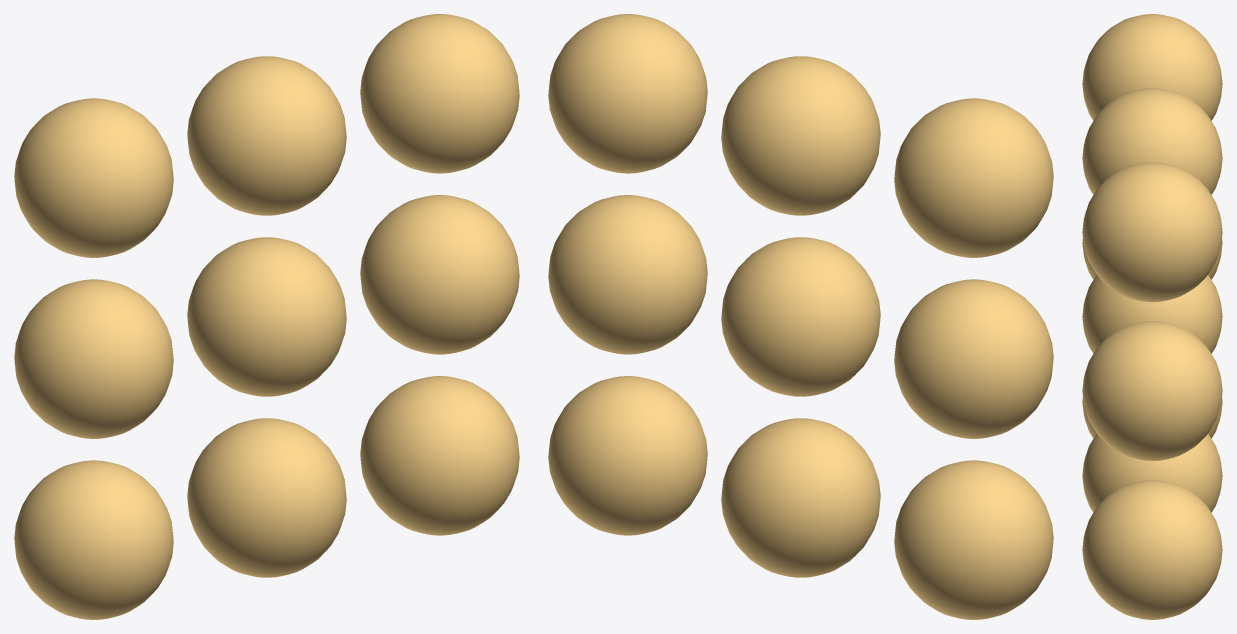
Rendered from pbr_spheres.glb.
3 views of the same model, side by side, from view 1: azimuth 30°, elevation 25°; view 2: azimuth 150°, elevation 25°; view 3: azimuth 270°, elevation 25° (orthographic). The views are drawn at different scales.
Parts seen in each view (by area): view 1: sphere_m0.5_r0.1, sphere_m0.5_r1.0, sphere_m0.5_r0.5, sphere_m0.0_r0.1, sphere_m0.0_r1.0, sphere_m1.0_r0.1, sphere_m1.0_r1.0, sphere_m0.0_r0.5, sphere_m1.0_r0.5; view 2: sphere_m0.5_r0.1, sphere_m0.5_r1.0, sphere_m0.5_r0.5, sphere_m0.0_r0.1, sphere_m0.0_r1.0, sphere_m1.0_r0.1, sphere_m1.0_r1.0, sphere_m0.0_r0.5, sphere_m1.0_r0.5; view 3: sphere_m1.0_r1.0, sphere_m1.0_r0.1, sphere_m1.0_r0.5, sphere_m0.5_r1.0, sphere_m0.0_r1.0, sphere_m0.5_r0.1, sphere_m0.5_r0.5, sphere_m0.0_r0.1, sphere_m0.0_r0.5.
Part boxes in pixels (bbox=[...]): sphere_m0.5_r0.1: bbox=[187, 418, 346, 577]; sphere_m0.5_r1.0: bbox=[187, 56, 346, 215]; sphere_m0.5_r0.5: bbox=[187, 237, 346, 396]; sphere_m0.0_r0.1: bbox=[14, 460, 173, 619]; sphere_m0.0_r1.0: bbox=[14, 98, 173, 257]; sphere_m1.0_r0.1: bbox=[360, 376, 519, 535]; sphere_m1.0_r1.0: bbox=[360, 14, 519, 173]; sphere_m0.0_r0.5: bbox=[14, 279, 173, 438]; sphere_m1.0_r0.5: bbox=[360, 195, 519, 354]; sphere_m0.5_r0.1: bbox=[721, 418, 880, 577]; sphere_m0.5_r1.0: bbox=[721, 56, 880, 215]; sphere_m0.5_r0.5: bbox=[721, 237, 880, 396]; sphere_m0.0_r0.1: bbox=[894, 460, 1053, 619]; sphere_m0.0_r1.0: bbox=[894, 98, 1053, 257]; sphere_m1.0_r0.1: bbox=[548, 376, 707, 535]; sphere_m1.0_r1.0: bbox=[548, 14, 707, 173]; sphere_m0.0_r0.5: bbox=[894, 279, 1053, 438]; sphere_m1.0_r0.5: bbox=[548, 195, 707, 354]; sphere_m1.0_r1.0: bbox=[1082, 162, 1222, 302]; sphere_m1.0_r0.1: bbox=[1082, 480, 1222, 619]; sphere_m1.0_r0.5: bbox=[1082, 321, 1222, 460]; sphere_m0.5_r1.0: bbox=[1082, 88, 1222, 194]; sphere_m0.0_r1.0: bbox=[1082, 14, 1222, 120]; sphere_m0.5_r0.1: bbox=[1082, 434, 1222, 512]; sphere_m0.5_r0.5: bbox=[1082, 275, 1222, 353]; sphere_m0.0_r0.1: bbox=[1082, 398, 1222, 438]; sphere_m0.0_r0.5: bbox=[1082, 239, 1222, 279].
Size of the model in its own units: 0.028 by 0.028 by 0.008.
